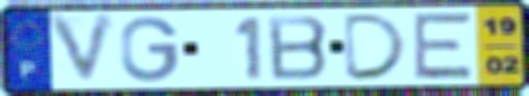1: (233, 15, 263, 82)
B: (265, 13, 332, 82)
D: (342, 11, 412, 82)
E: (412, 10, 476, 82)
G: (119, 15, 182, 84)
V: (44, 11, 121, 89)
